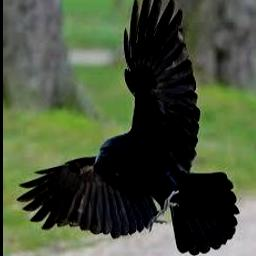Crow: (15, 0, 239, 254)
